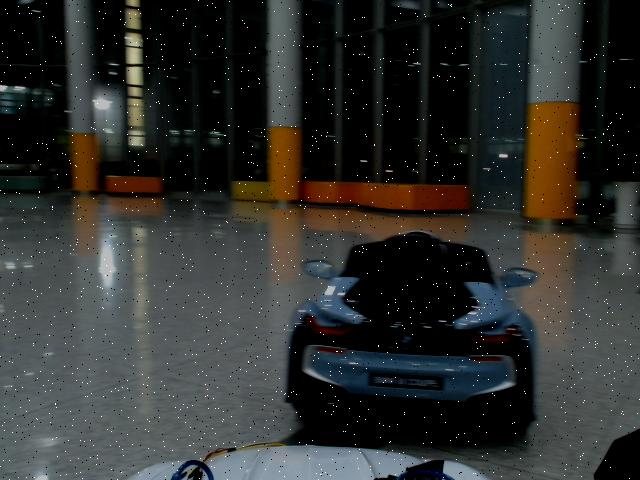car: (284, 230, 539, 436)
